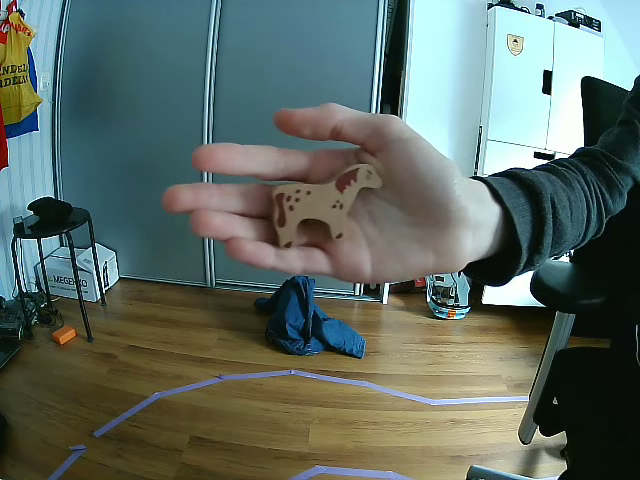paard: (278, 163, 383, 250)
